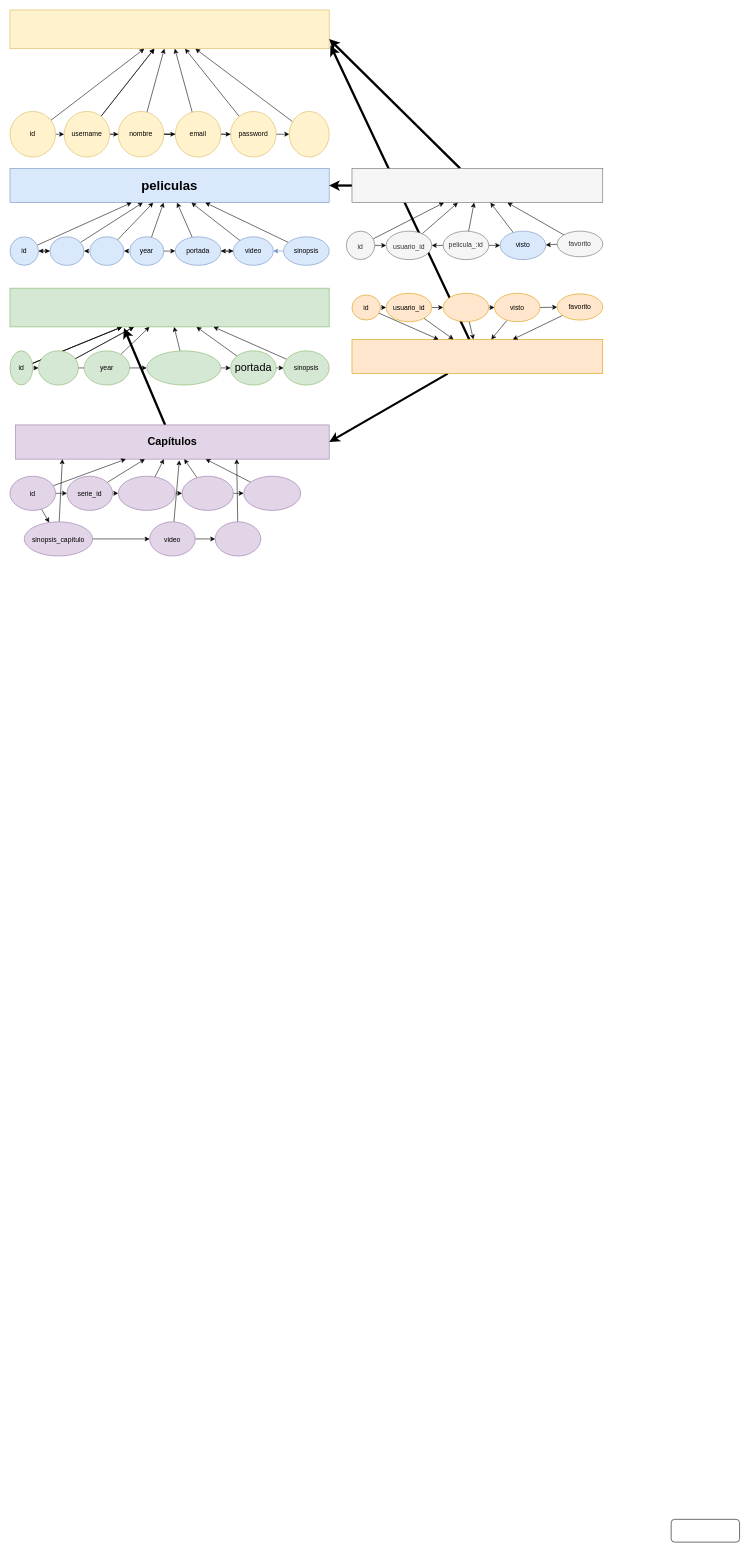
The diagram is 750 pixels wide and 1552 high, and some of its shapes have lost their labels. Here are the shapes that lost their labels. From the top down, the centre of each, then its label:
(169,29): usuarios
(309,134): admin
(477,185): usuario_pelicula
(66,250): titulo
(106,250): duracion
(169,307): Series
(466,307): capitulo_id
(58,367): titulo-serie
(183,367): num_temporadas
(477,356): usuario_capitulos
(146,493): título_capitulo
(207,493): num_capitulo
(272,493): num_temporada
(238,538): duración
(705,1530): Replace Bulb
